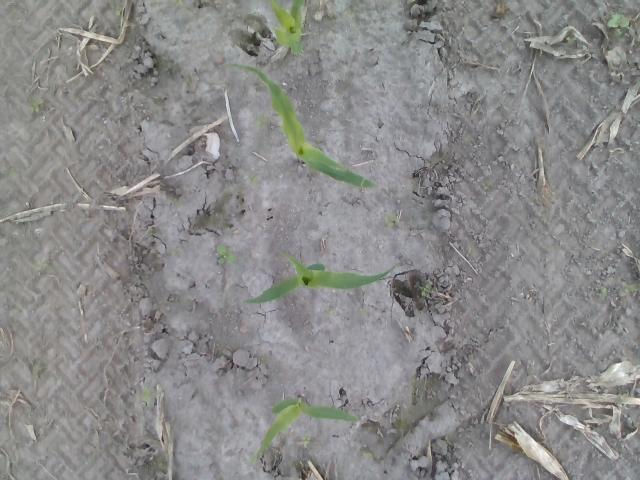Maize: (222, 62, 376, 188), (243, 250, 400, 306), (250, 394, 358, 466), (270, 0, 306, 55)
Weeds: (607, 12, 629, 37), (216, 246, 236, 264), (140, 386, 157, 404), (384, 210, 399, 226), (28, 99, 44, 112), (622, 281, 638, 292), (254, 116, 268, 128), (36, 257, 47, 271), (596, 286, 608, 297), (168, 196, 180, 206), (420, 284, 430, 296), (302, 433, 310, 447), (248, 174, 258, 183), (618, 391, 628, 400), (482, 182, 492, 190), (444, 434, 452, 444), (182, 77, 190, 86), (326, 307, 334, 315), (566, 37, 576, 43), (172, 0, 182, 6), (6, 168, 16, 174), (361, 308, 368, 316), (362, 451, 372, 456), (114, 11, 120, 16)
